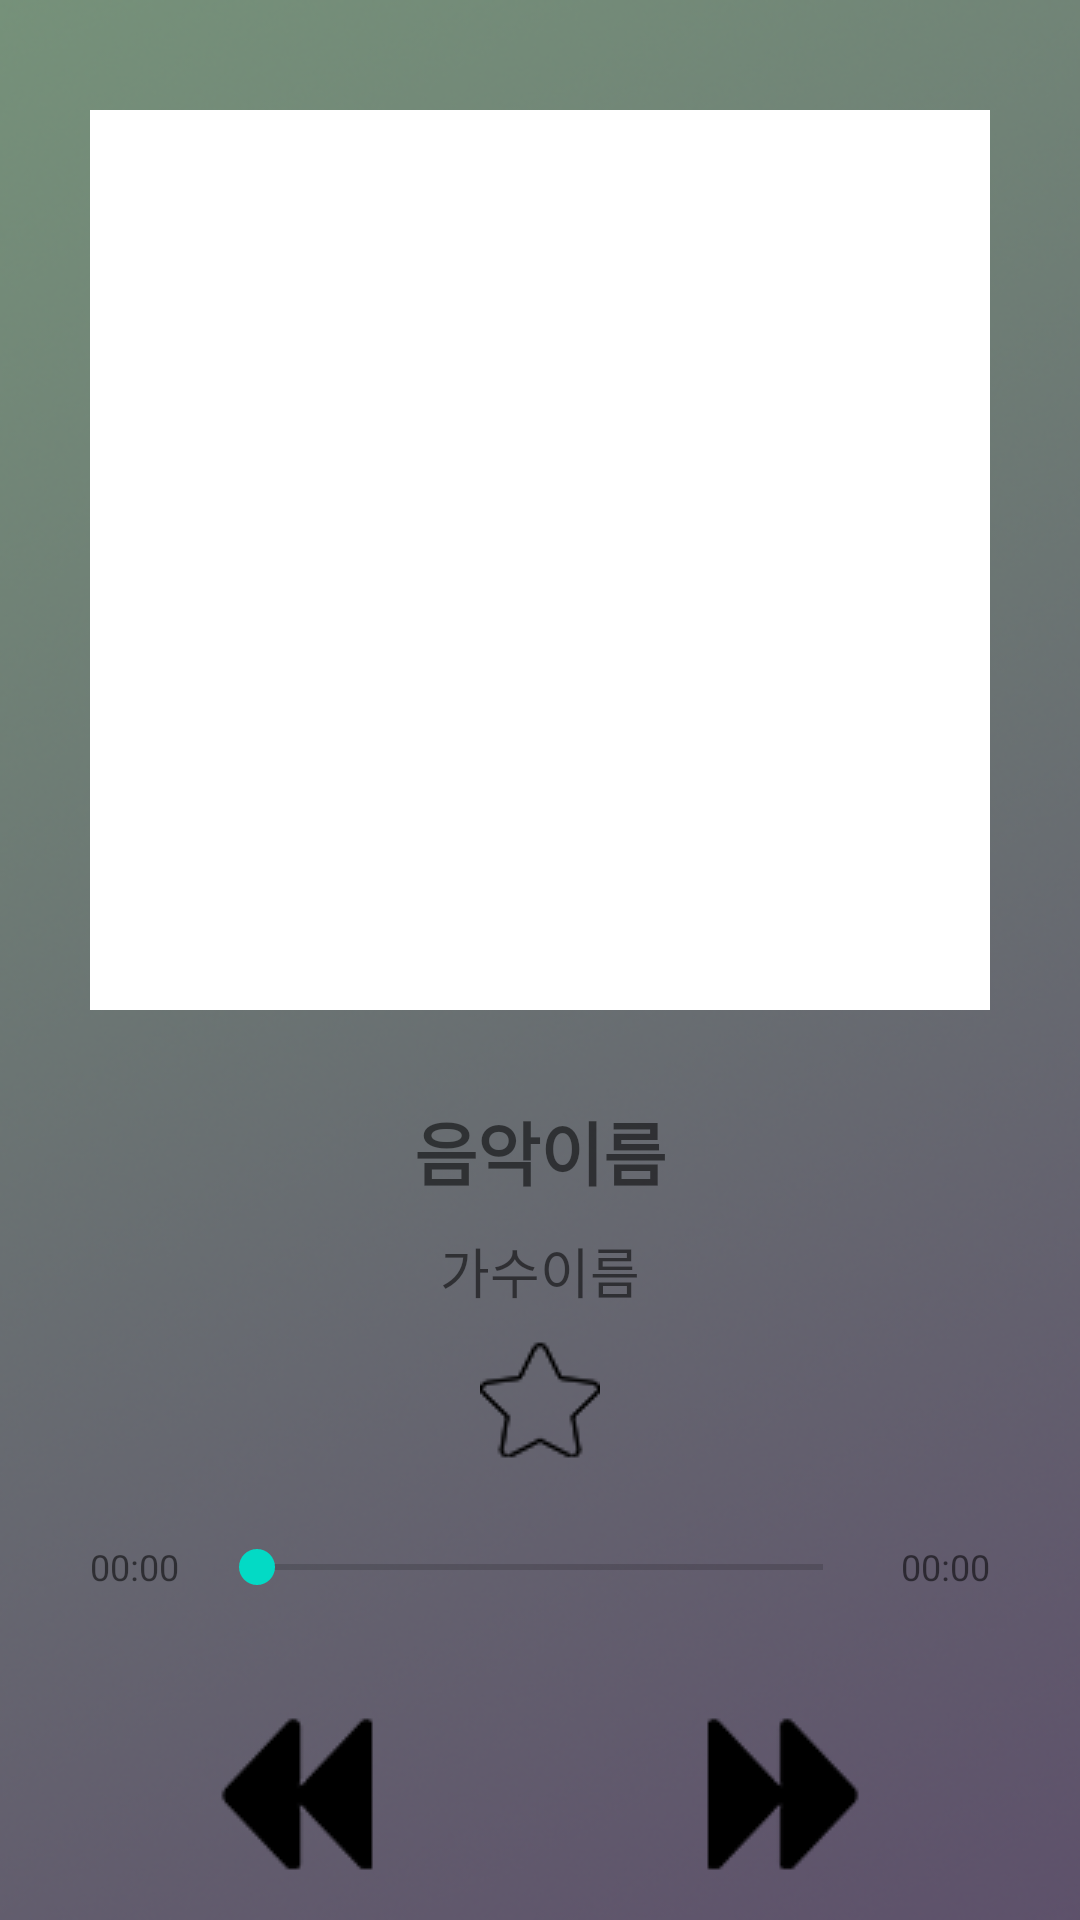

Point at icon controls on the screen. Image size 1080px×1920px, points as [x,y].
back: [297,1794]
next: [783,1794]
nolikestar: [540,1400]
